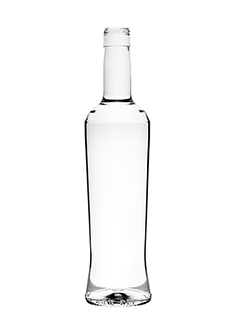glass_bottle: (83, 24, 158, 314)
